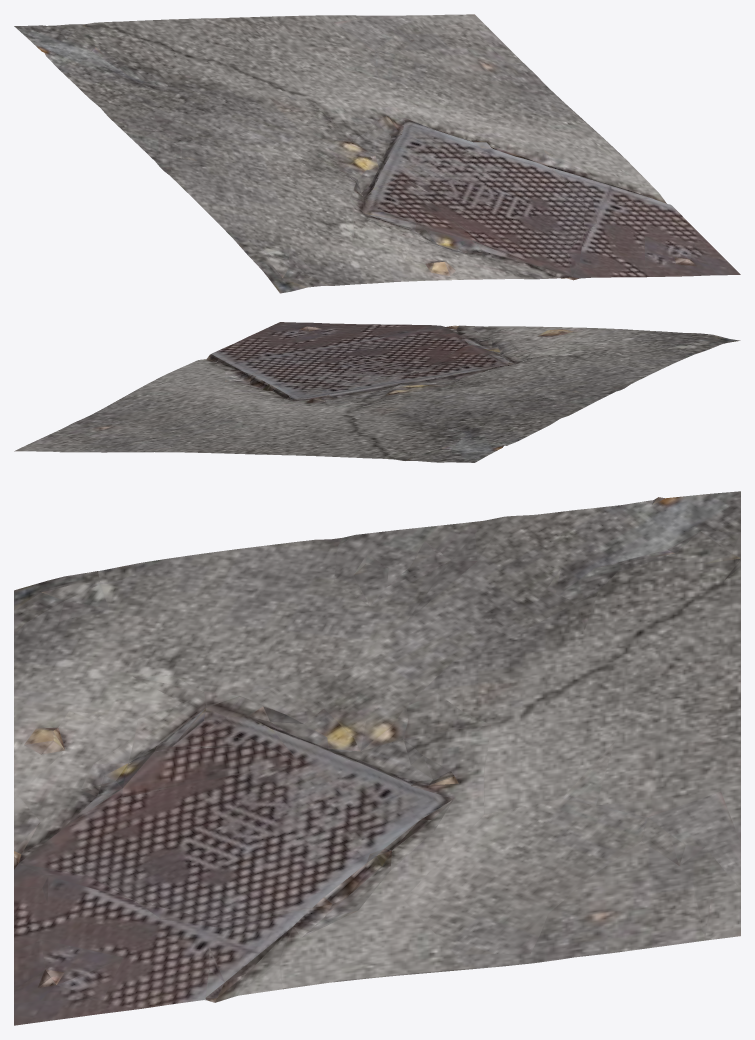
3 renders of one model, top to bottom at view 1: azimuth 30°, elevation 25°; view 2: azimuth 150°, elevation 25°; view 3: azimuth 270°, elevation 25°, orthographic. The views are drawn at different scales.
Bounding box in the file's own units: 1.67 × 0.5776 × 1.67.
Materials: 3 (3 with a texture image).
